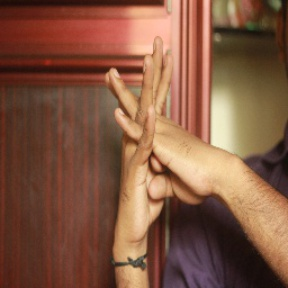W: (96, 28, 210, 214)
